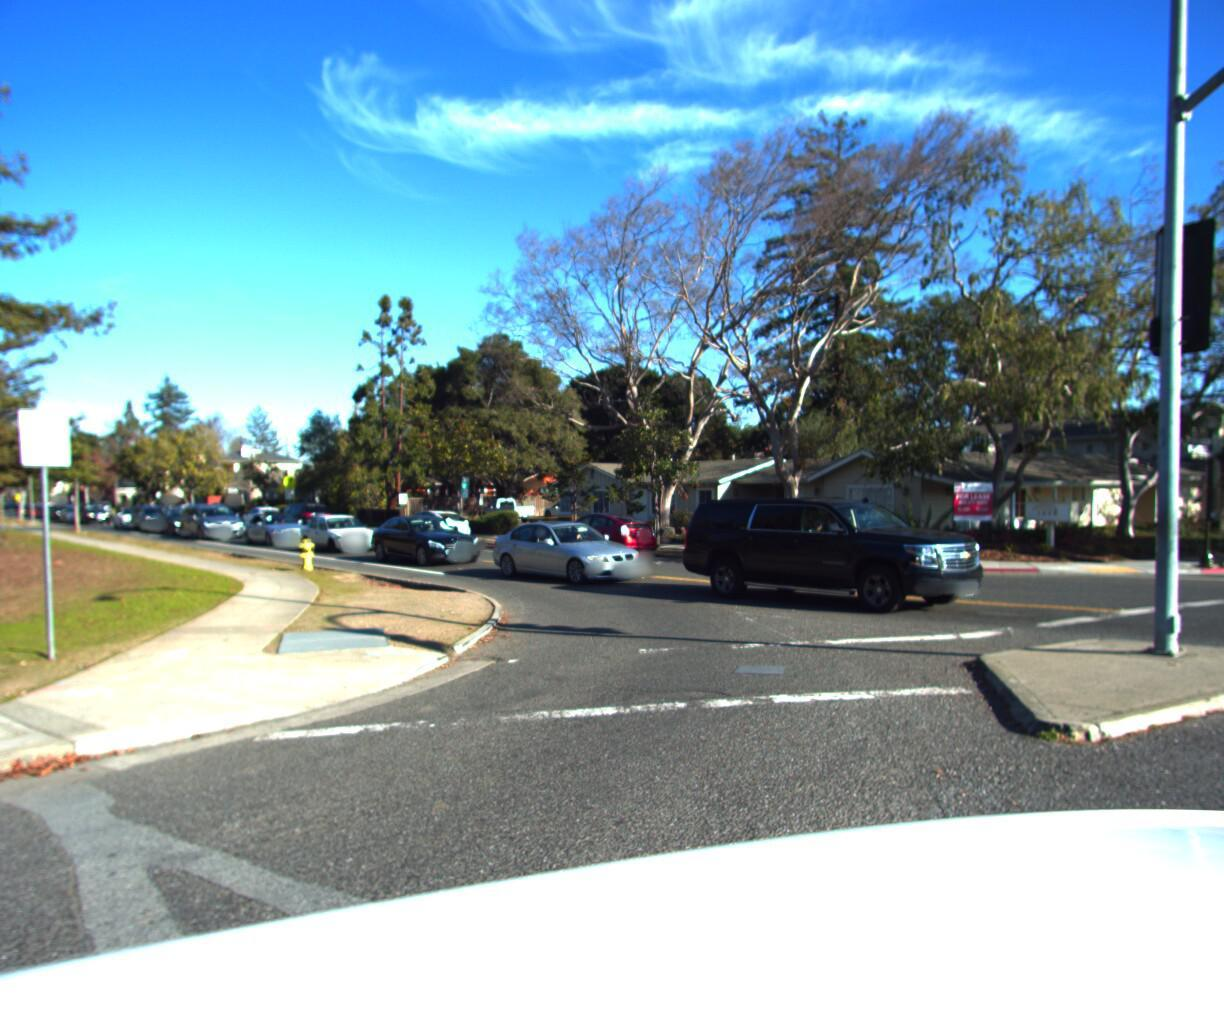car: (666, 493, 1018, 631), (478, 515, 659, 588), (361, 513, 491, 571), (545, 510, 665, 562), (292, 513, 389, 559), (392, 509, 477, 549), (237, 513, 319, 549), (178, 506, 251, 545), (274, 504, 339, 536), (157, 509, 213, 539), (130, 506, 181, 535), (239, 501, 291, 528), (111, 507, 157, 535)
